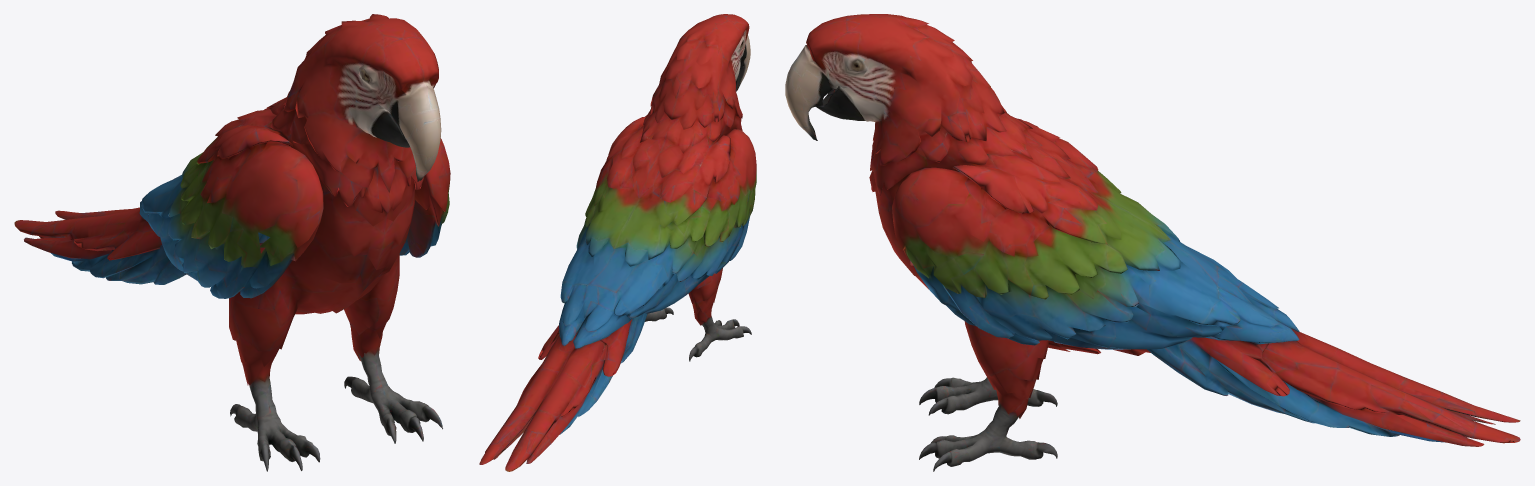
File: macaw-techi.glb
3 views of the same model, side by side, from view 1: azimuth 30°, elevation 25°; view 2: azimuth 150°, elevation 25°; view 3: azimuth 270°, elevation 25° (orthographic). The views are drawn at different scales.
Visible parts, largest first — view 1: geometry_0; view 2: geometry_0; view 3: geometry_0.
Part boxes in pixels (x1,y1,x2,y2): geometry_0: (14, 14, 450, 471); geometry_0: (479, 14, 756, 471); geometry_0: (785, 14, 1520, 471).
Size of the model in its own units: 0.3012 by 0.5962 by 0.957.
1 material, 1 textured.
